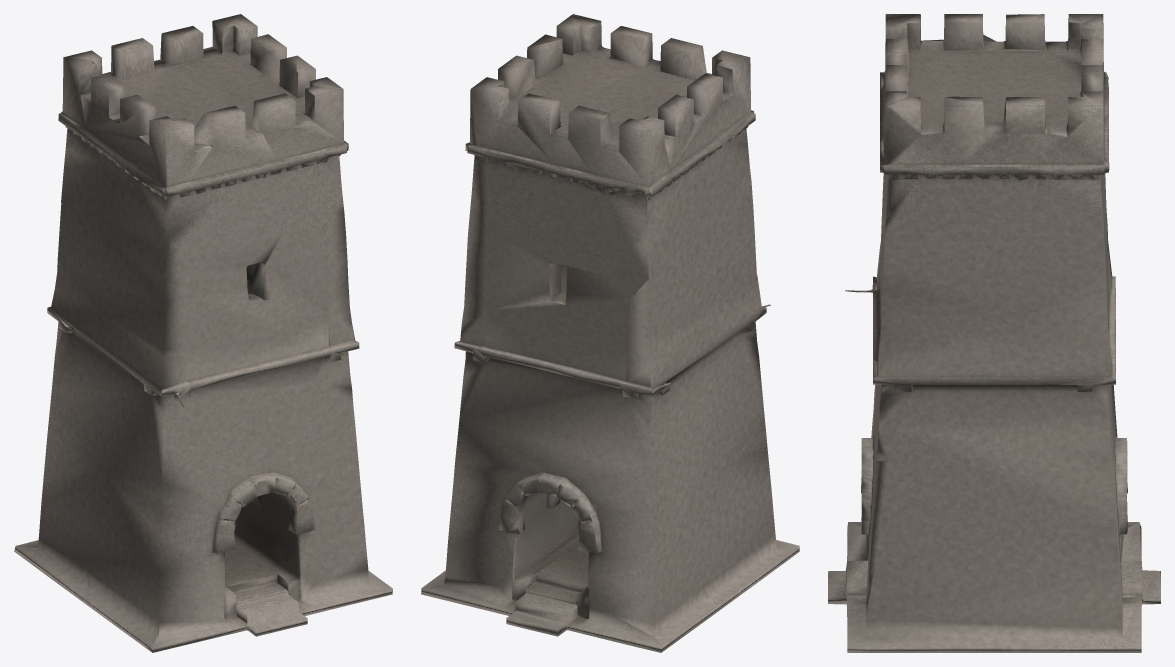
The model's file is prp_lm_gate_tower.glb.
The picture shows the model from 3 angles, left to right: view 1: azimuth 30°, elevation 25°; view 2: azimuth 150°, elevation 25°; view 3: azimuth 270°, elevation 25°; orthographic projection. The views are drawn at different scales.
Visible parts, largest first — view 1: prp_lm_gate_tower; view 2: prp_lm_gate_tower; view 3: prp_lm_gate_tower.
Boxes of the visible parts, x1,y1,x2,y2 form: prp_lm_gate_tower: (14,14,392,652); prp_lm_gate_tower: (421,14,799,652); prp_lm_gate_tower: (828,14,1160,652).
Bounding box in the file's own units: 9.06 × 18 × 10.23.
Materials: 1 (1 with a texture image).
